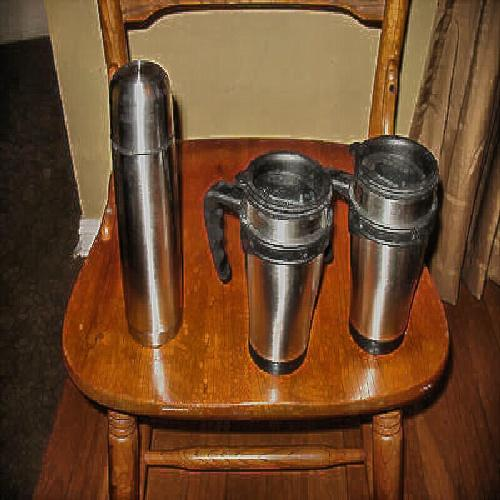mug: (109, 67, 195, 353), (346, 141, 448, 363), (222, 157, 327, 370)
